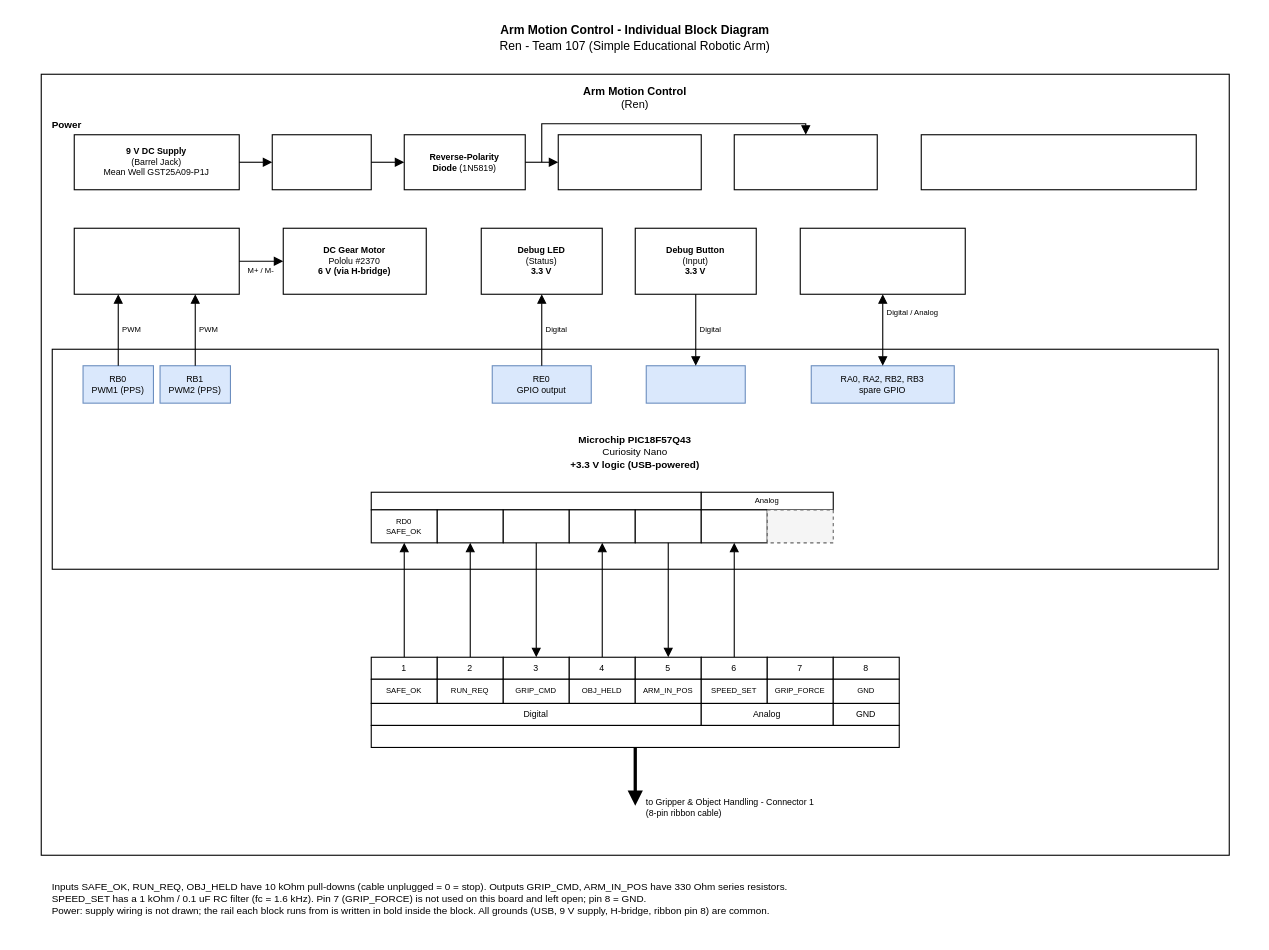
The diagram is 1269 pixels wide and 950 high, and some of its shapes have lost their labels. The box of each missing label's shape, as (x1, y1, x2, y2) in pixels:
Connector 1 (J3, 2x4 IDC): (370, 724, 899, 747)
Digital I/O: (370, 491, 701, 510)
Expansion Header J4 6-pin: GND, RA0, RA2, RB2, RB3 3.3 V (VTG): (799, 227, 965, 294)
Fuse 1 A slow-blow: (271, 134, 371, 190)
H-Bridge Motor Driver onsemi FAN8100N (Ch. A) PVCC +6 V / VCC +5 V: (73, 227, 239, 294)
L7805 +5 V logic rail: (733, 134, 877, 190)
LM317T +6 V motor rail (R11 240 / R12 910): (557, 134, 701, 190)
Pin 7 not connected: (766, 509, 833, 543)
RA1 (ANA1) SPEED_SET: (700, 509, 767, 543)
RD1 RUN_REQ: (436, 509, 503, 543)
RD2 GRIP_CMD: (502, 509, 569, 543)
RD3 OBJ_HELD: (568, 509, 635, 543)
RD4 ARM_IN_POS: (634, 509, 701, 543)
RE1 GPIO input (WPU): (645, 365, 745, 403)
USB 5 V (PC) Curiosity Nano on-board LDO (MIC5353) +3.3 V logic rail (VTG): (920, 134, 1196, 190)
